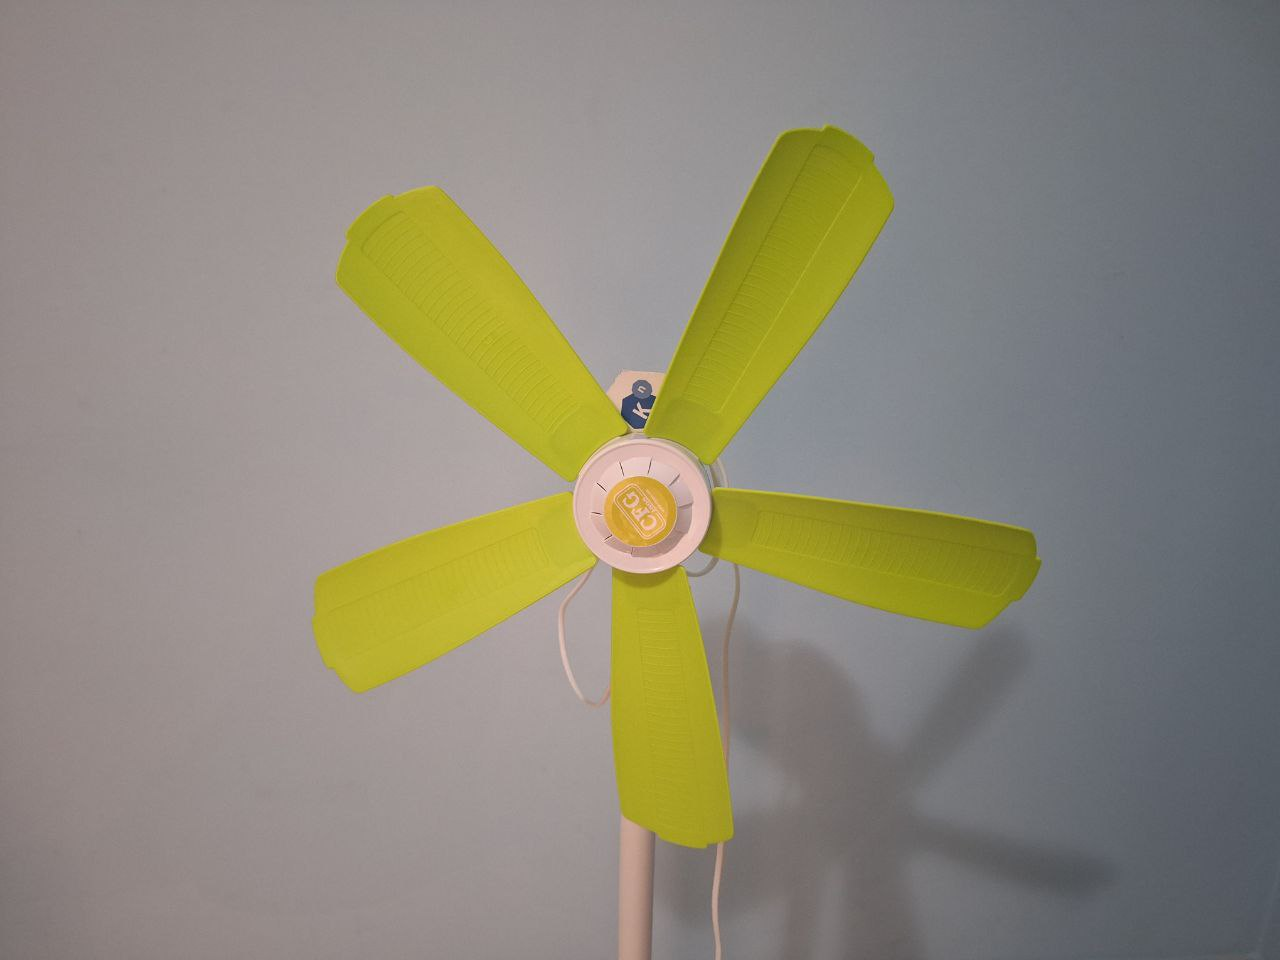knative: (621, 383, 656, 428)
